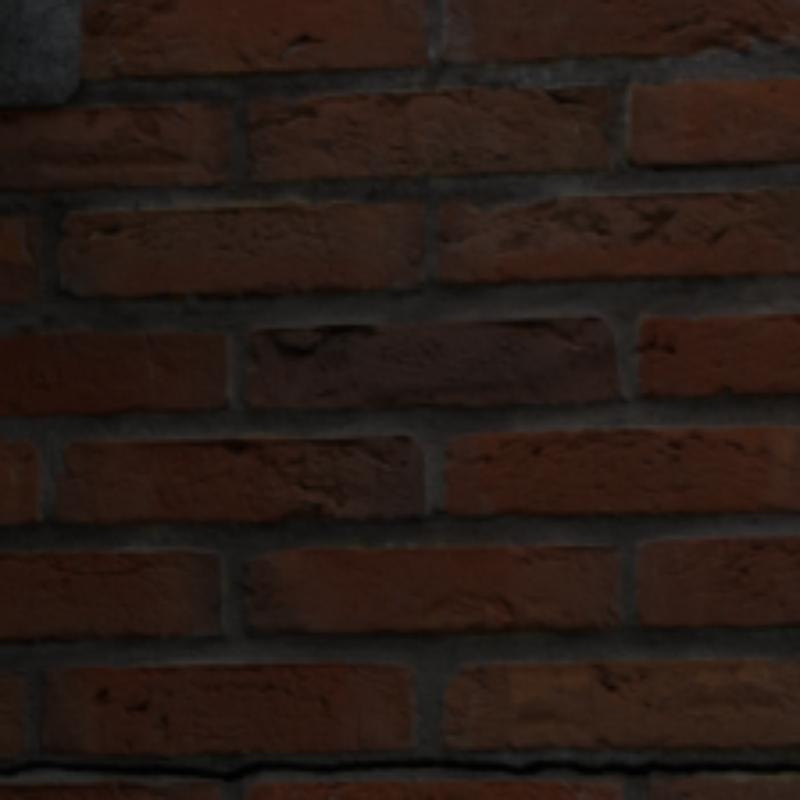pothole: (0, 761, 796, 779)
